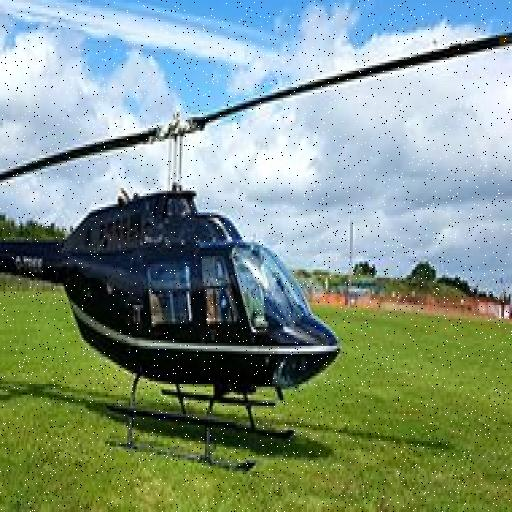helicopter: (1, 31, 512, 480)
